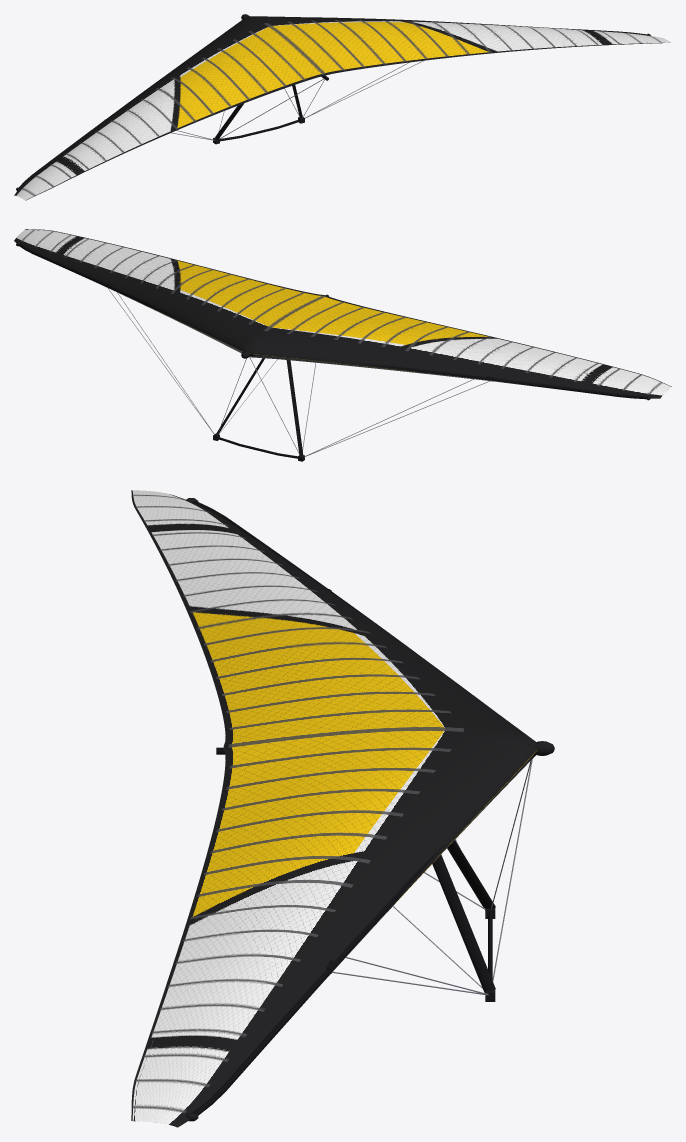
Rendered from glider_combat.glb.
3 renders of one model, top to bottom at view 1: azimuth 30°, elevation 25°; view 2: azimuth 150°, elevation 25°; view 3: azimuth 270°, elevation 25°, orthographic. The views are drawn at different scales.
Visible parts, largest first — view 1: Sail, ControlFrame, Frame; view 2: Sail, ControlFrame, Frame; view 3: Sail, ControlFrame, Frame.
Boxes of the visible parts, <box> form: Sail: <box>14,16,671,200</box>; ControlFrame: <box>171,60,423,144</box>; Frame: <box>16,14,650,190</box>; Sail: <box>14,229,671,398</box>; ControlFrame: <box>108,288,490,461</box>; Frame: <box>16,241,651,400</box>; Sail: <box>131,490,537,1127</box>; ControlFrame: <box>332,759,532,1001</box>; Frame: <box>186,498,554,1121</box>.
Bounding box in the file's own units: 10.35 × 1.77 × 2.93.
Materials: 4 (1 with a texture image).
